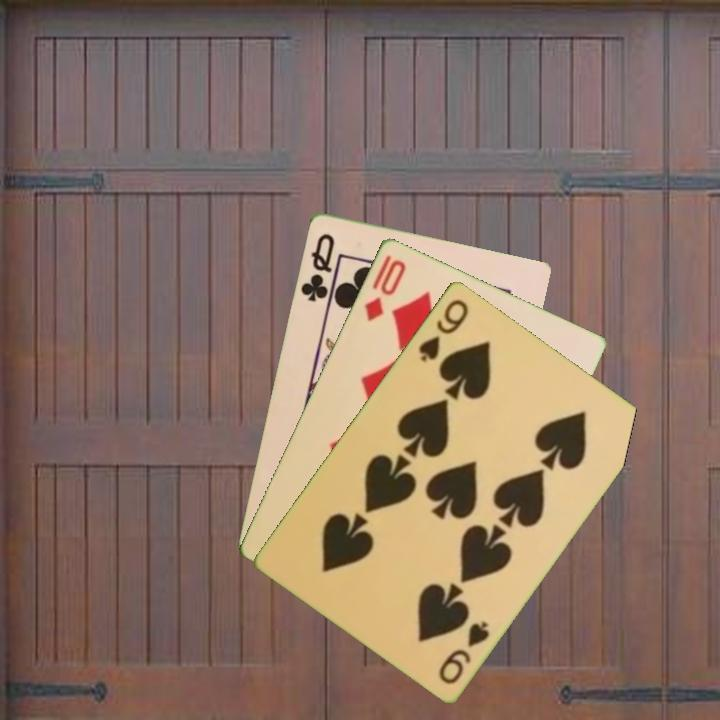10d: (360, 255, 409, 324)
9s: (435, 616, 493, 687), (415, 294, 472, 364)
Qc: (297, 229, 341, 309)
